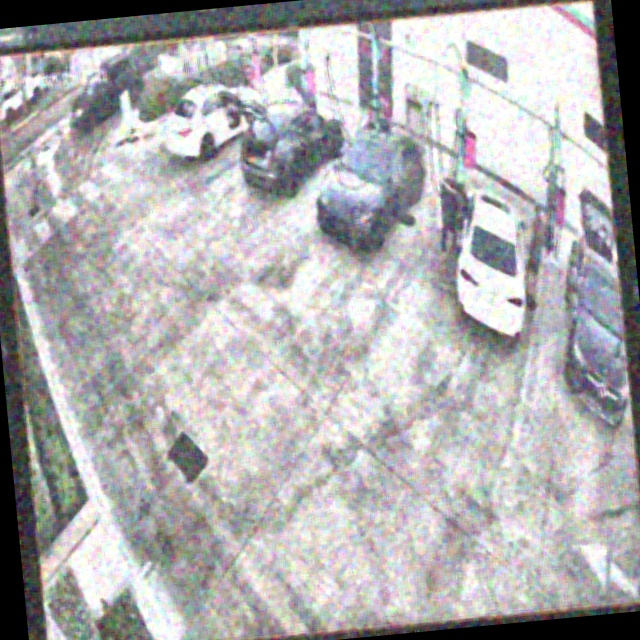Car: (305, 120, 434, 258), (439, 174, 527, 346), (234, 89, 347, 199), (158, 79, 270, 165)
